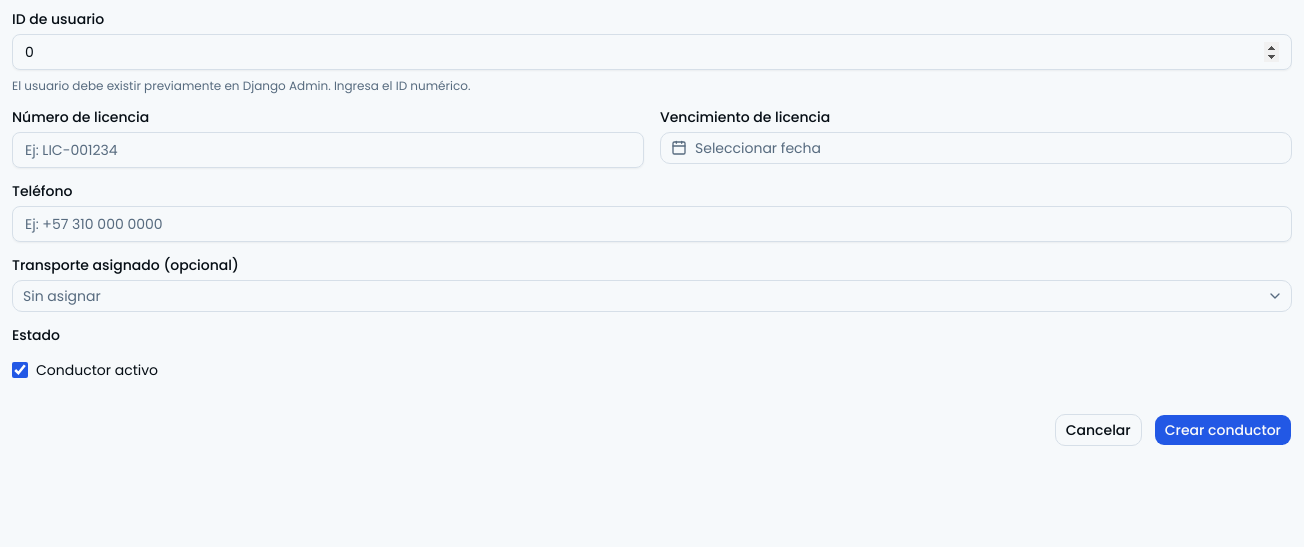
DriverForm — validación › muestra errores en campos requeridos al enviar vacío
What coordinates should you click on to do the following:
click the button "Crear conductor"
I would click on:
 (1223, 430)
Its box is [1154,414,1292,446].
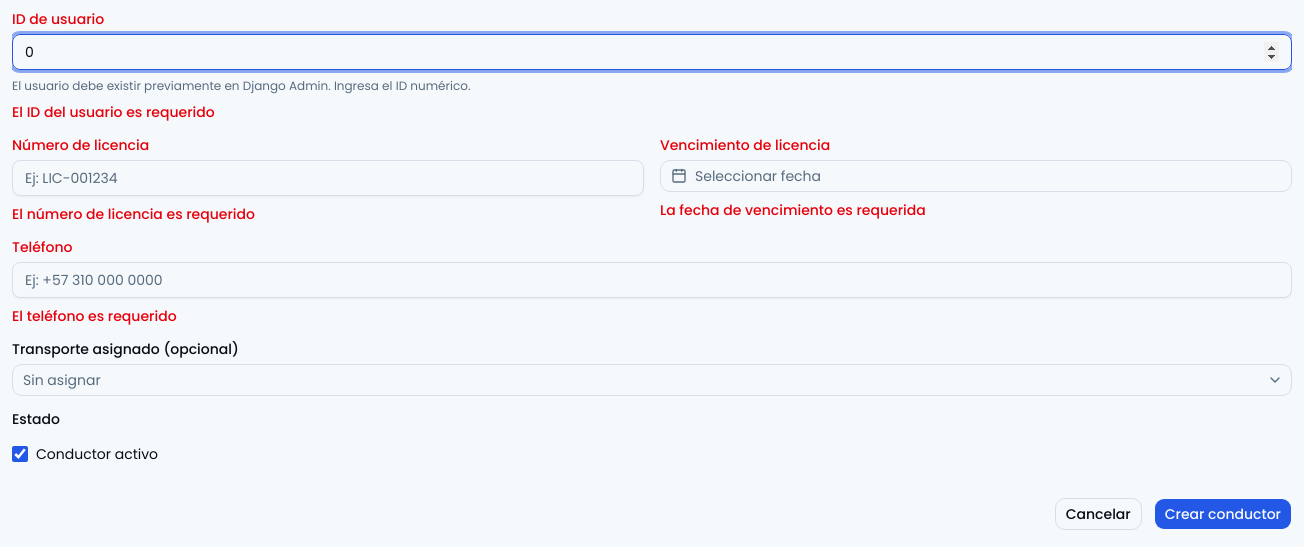
Expected: the text "El número de licencia es requerido" is shown, [12,204,255,224]
Expected: the text "La fecha de vencimiento es requerida" is shown, [660,200,926,220]
Expected: the text "El teléfono es requerido" is shown, [12,306,177,326]
